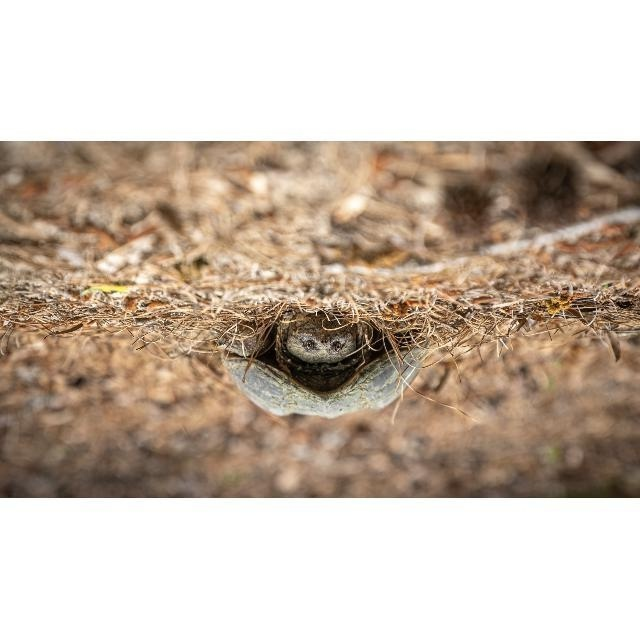turtle: (214, 308, 434, 418)
